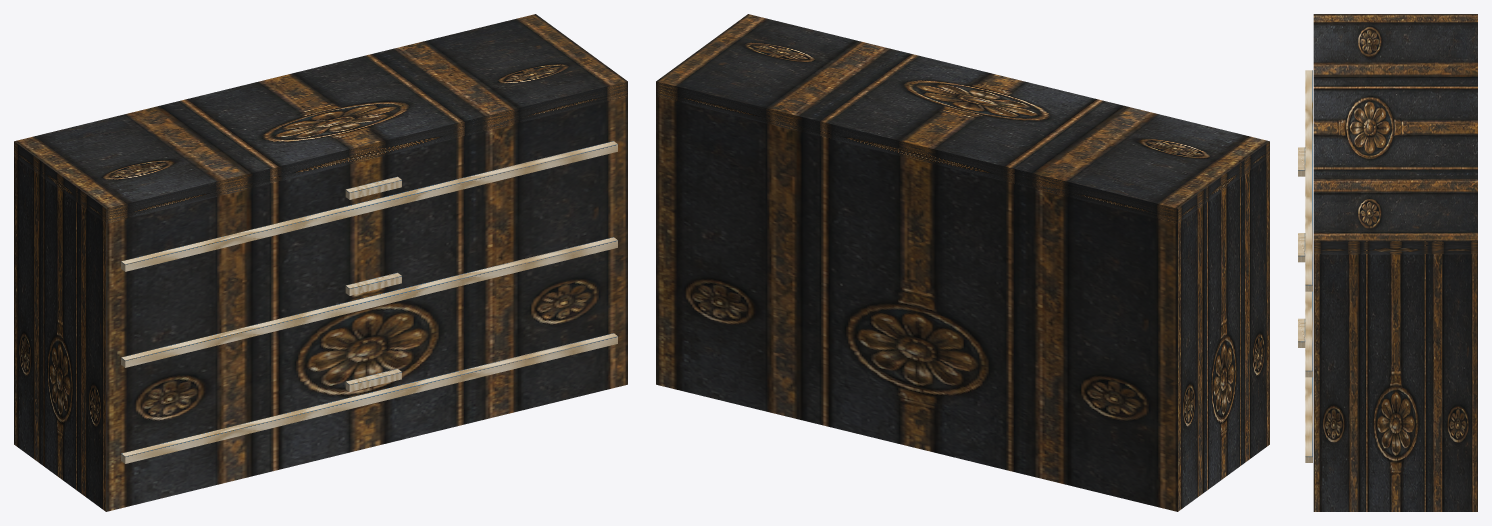
The model's file is credenza.gltf.
The picture shows the model from 3 angles, left to right: view 1: azimuth 30°, elevation 25°; view 2: azimuth 150°, elevation 25°; view 3: azimuth 270°, elevation 25°; orthographic projection. The views are drawn at different scales.
Parts seen in each view (by area): view 1: kit:0:furniture:mahogany:, kit:0:furniture:gold:; view 2: kit:0:furniture:mahogany:; view 3: kit:0:furniture:mahogany:, kit:0:furniture:gold:.
Part boxes in pixels (box(x1,y1,x2,y2)): kit:0:furniture:mahogany:: box(14, 14, 627, 511); kit:0:furniture:gold:: box(121, 141, 617, 463); kit:0:furniture:mahogany:: box(656, 14, 1269, 511); kit:0:furniture:mahogany:: box(1313, 14, 1477, 511); kit:0:furniture:gold:: box(1298, 70, 1312, 462).
Bounding box in the file's own units: 1.8 × 1 × 0.6025.
Materials: 2 (2 with a texture image).
